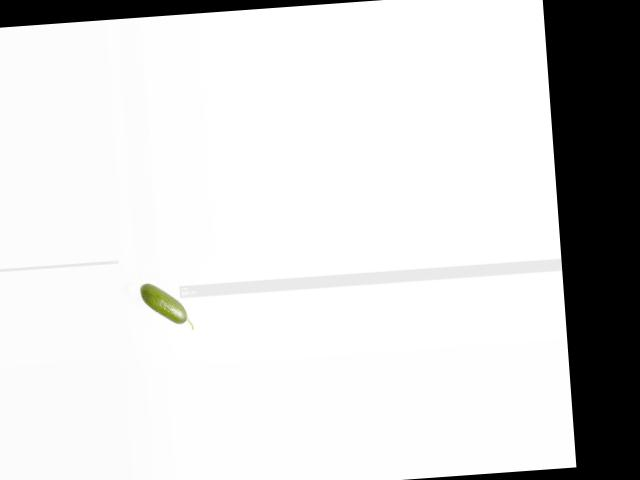cucumber: (140, 279, 195, 332)
